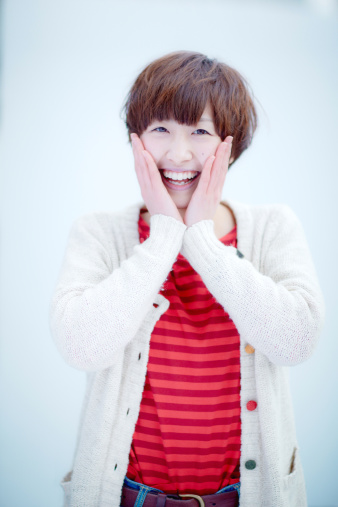em pe: (30, 35, 324, 507)
